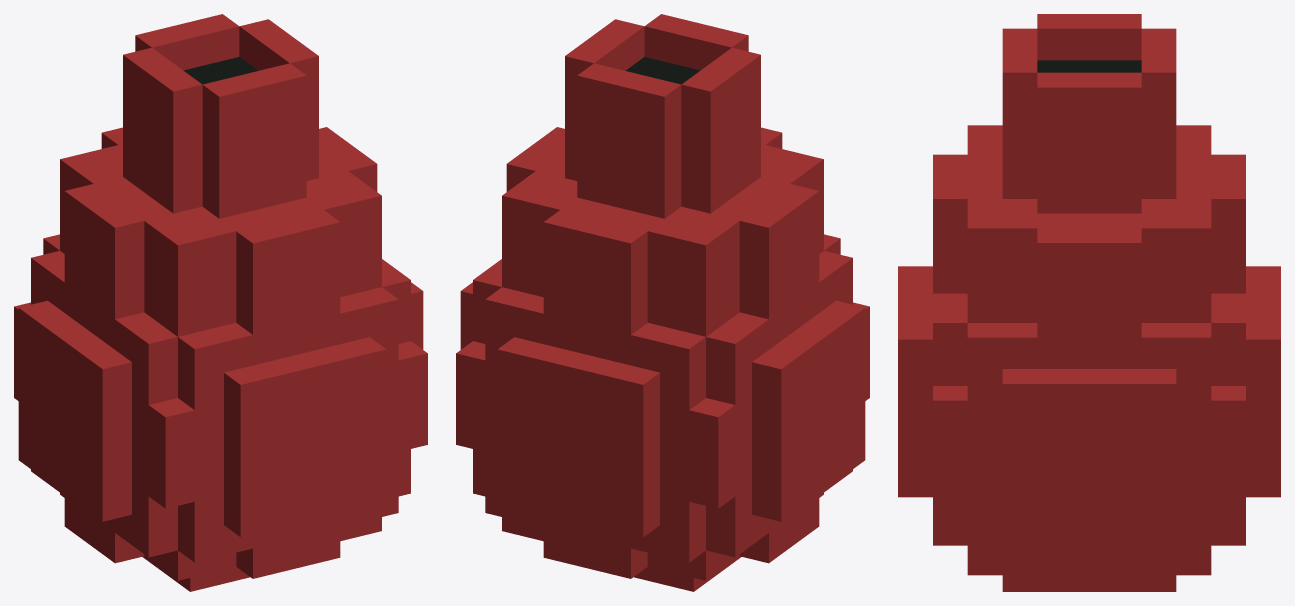
The model's file is Vase_Long_00.fbx.
The picture shows the model from 3 angles, left to right: view 1: azimuth 30°, elevation 25°; view 2: azimuth 150°, elevation 25°; view 3: azimuth 270°, elevation 25°; orthographic projection. The views are drawn at different scales.
Visible parts, largest first — view 1: Vase_Long_00; view 2: Vase_Long_00; view 3: Vase_Long_00.
Part boxes in pixels (left/top/right/bottom): Vase_Long_00: left=14, top=14, right=427, bottom=591; Vase_Long_00: left=456, top=14, right=869, bottom=591; Vase_Long_00: left=898, top=14, right=1280, bottom=591.
Bounding box in the file's own units: 55 × 80 × 55.
